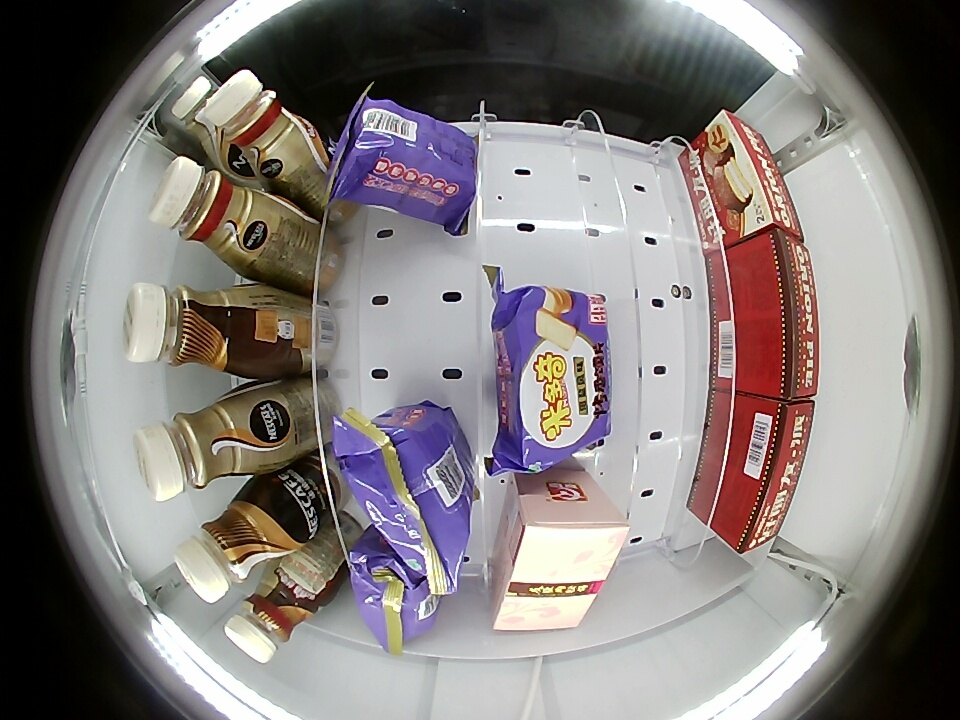haoliyou: (716, 396, 816, 557), (735, 229, 819, 401), (702, 109, 805, 244)
kafei: (148, 156, 276, 274), (132, 393, 268, 503), (173, 489, 300, 604), (205, 69, 316, 178), (122, 283, 250, 374), (223, 577, 314, 665), (170, 74, 231, 151)
kaomo_jiaoyan: (334, 404, 470, 590), (492, 284, 611, 470), (329, 96, 477, 226), (348, 537, 443, 648)
rousongbing: (492, 488, 630, 632)
